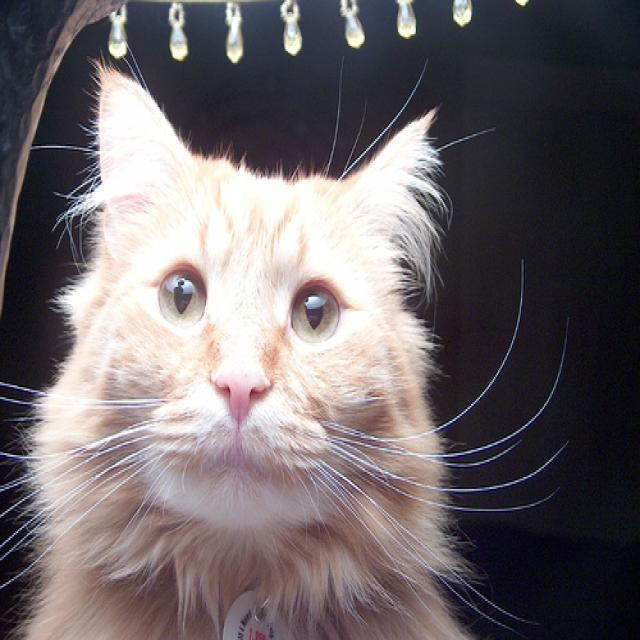left eye: (288, 278, 342, 343)
